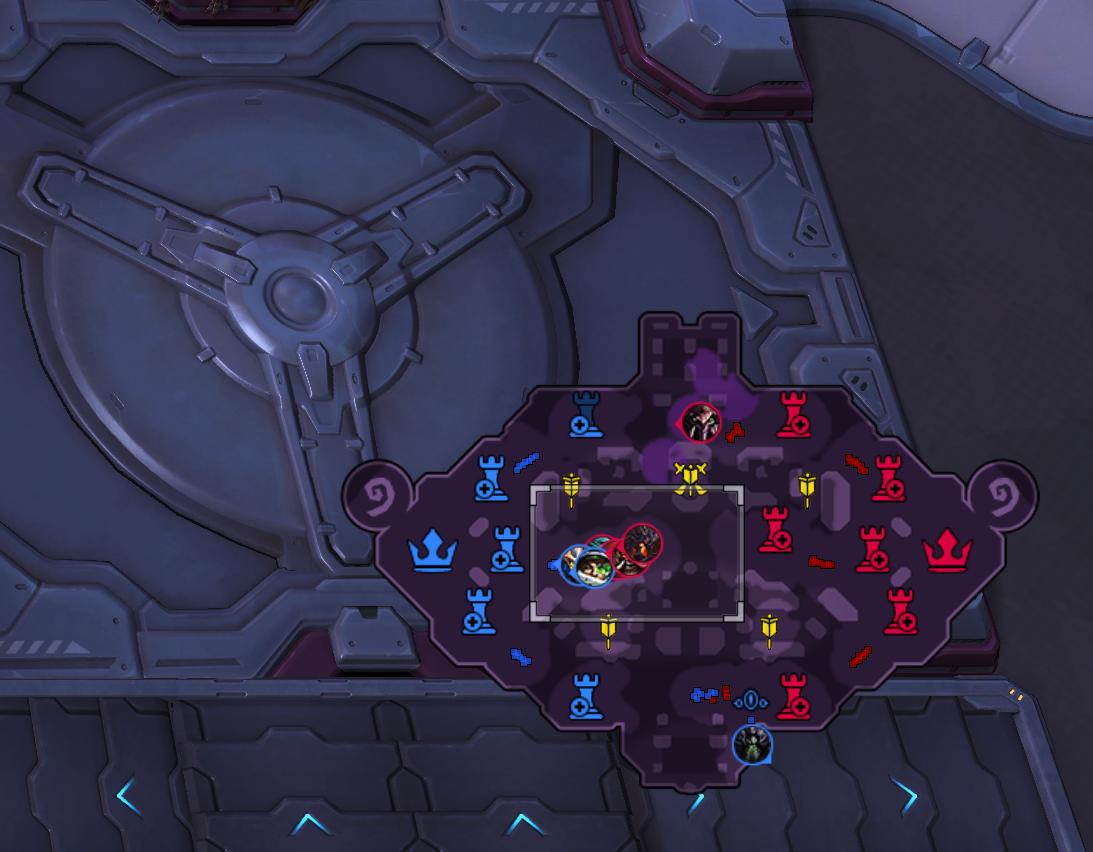blue player: (730, 723, 775, 767), (573, 549, 615, 593)
red player: (619, 521, 668, 567), (676, 400, 723, 443), (605, 537, 652, 580)
